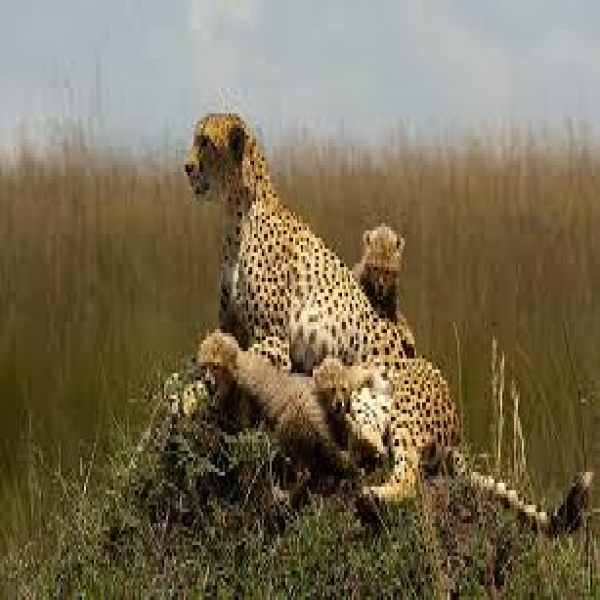Cheetah: (181, 109, 595, 534), (195, 326, 330, 464), (347, 222, 426, 353), (306, 353, 360, 422)
